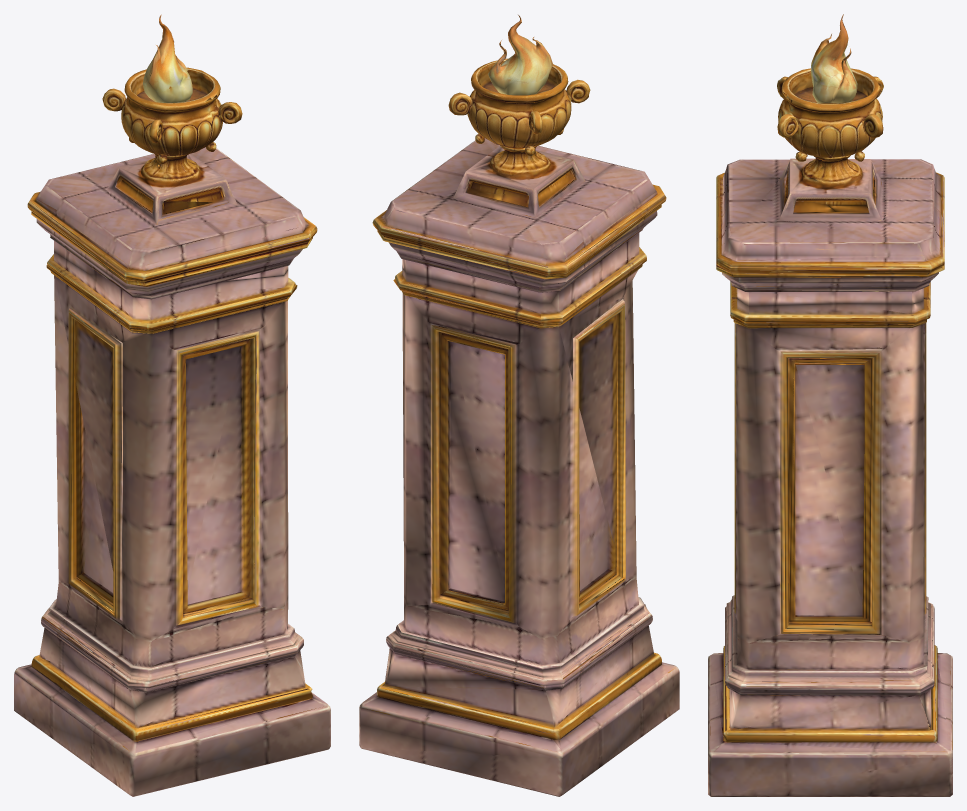
The model's file is gate-pier.glb.
The picture shows the model from 3 angles, left to right: view 1: azimuth 30°, elevation 25°; view 2: azimuth 150°, elevation 25°; view 3: azimuth 270°, elevation 25°; orthographic projection. The views are drawn at different scales.
Parts seen in each view (by area): view 1: Mesh_0; view 2: Mesh_0; view 3: Mesh_0.
Part boxes in pixels (bbox=[...]): Mesh_0: bbox=[14, 14, 330, 796]; Mesh_0: bbox=[359, 15, 679, 796]; Mesh_0: bbox=[708, 14, 952, 796].
Size of the model in its own units: 1.95 by 6.59 by 2.
1 material, 1 textured.
